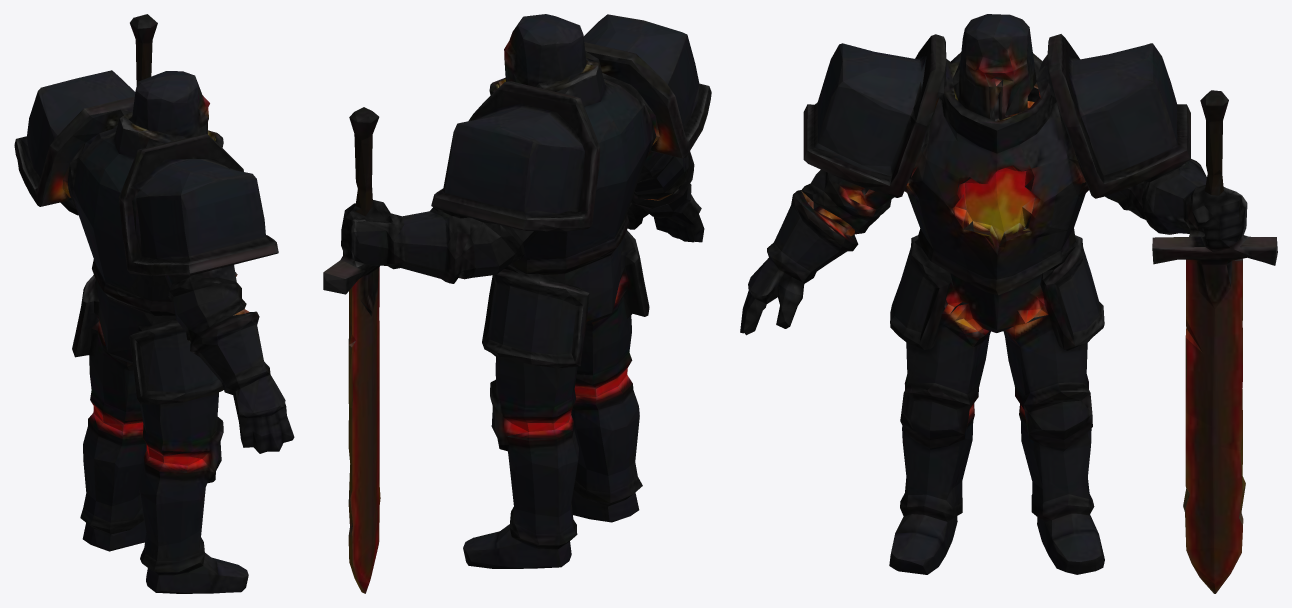
File: foe_pyre.glb
3 renders of one model, left to right at view 1: azimuth 30°, elevation 25°; view 2: azimuth 150°, elevation 25°; view 3: azimuth 270°, elevation 25°, orthographic. The views are drawn at different scales.
Visible parts, largest first — view 1: tripo_node_036a58db-a8af-459d-95f8-713b51de8d4c.001; view 2: tripo_node_036a58db-a8af-459d-95f8-713b51de8d4c.001; view 3: tripo_node_036a58db-a8af-459d-95f8-713b51de8d4c.001.
Boxes of the visible parts, x1,y1,x2,y2 form: tripo_node_036a58db-a8af-459d-95f8-713b51de8d4c.001: [14, 14, 294, 593]; tripo_node_036a58db-a8af-459d-95f8-713b51de8d4c.001: [323, 14, 711, 593]; tripo_node_036a58db-a8af-459d-95f8-713b51de8d4c.001: [740, 14, 1277, 593].
Bounding box in the file's own units: 0.3923 × 0.9994 × 0.9084.
1 material, 1 textured.
